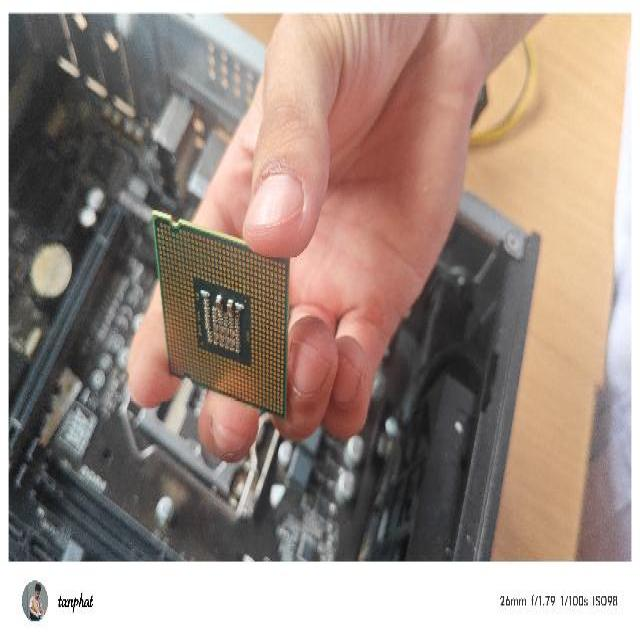CPU: (149, 207, 289, 417)
